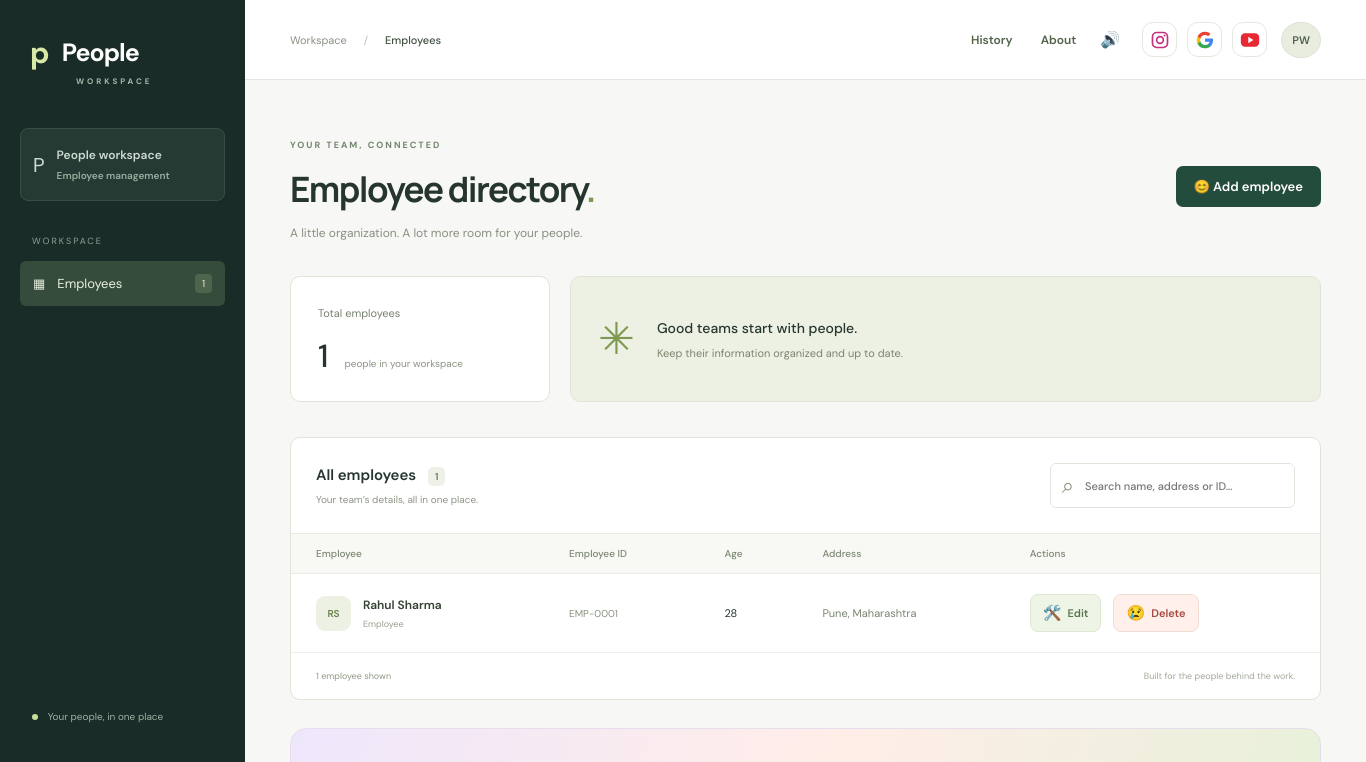
loads persisted employees and filters directory
Expected: the text "Rahul Sharma" is shown, [363,596,442,630]
Type "missing" into the field named "Search employees".
click(1183, 486); type("missing")  # box [1083,478,1283,494]
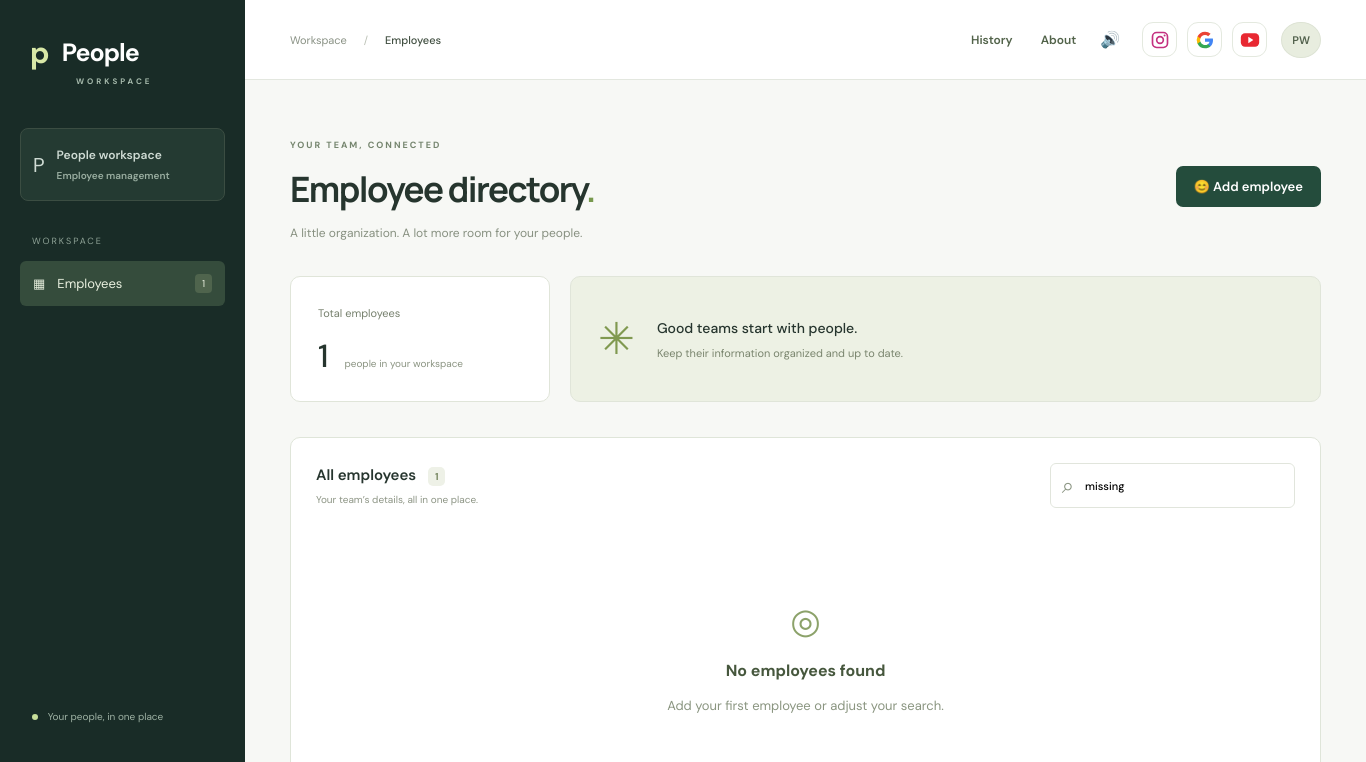
Now the heading "No employees found" is shown, box [726,660,885,681]
